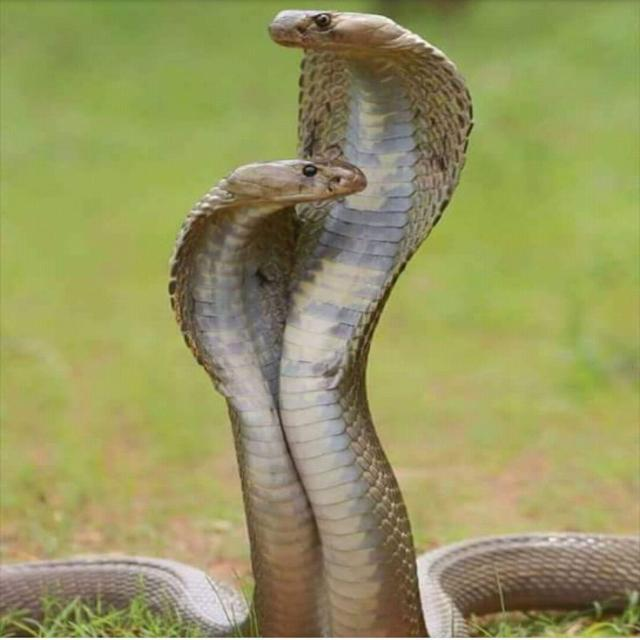Snake: (131, 0, 640, 640)
